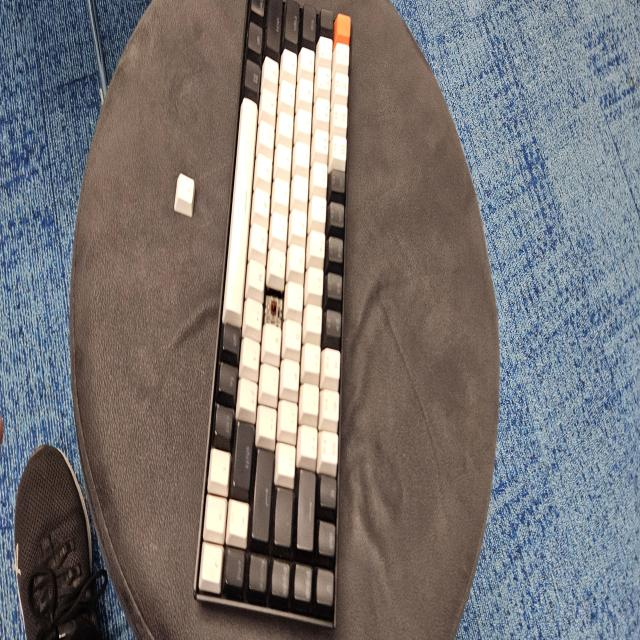C: (266, 293, 281, 323)
